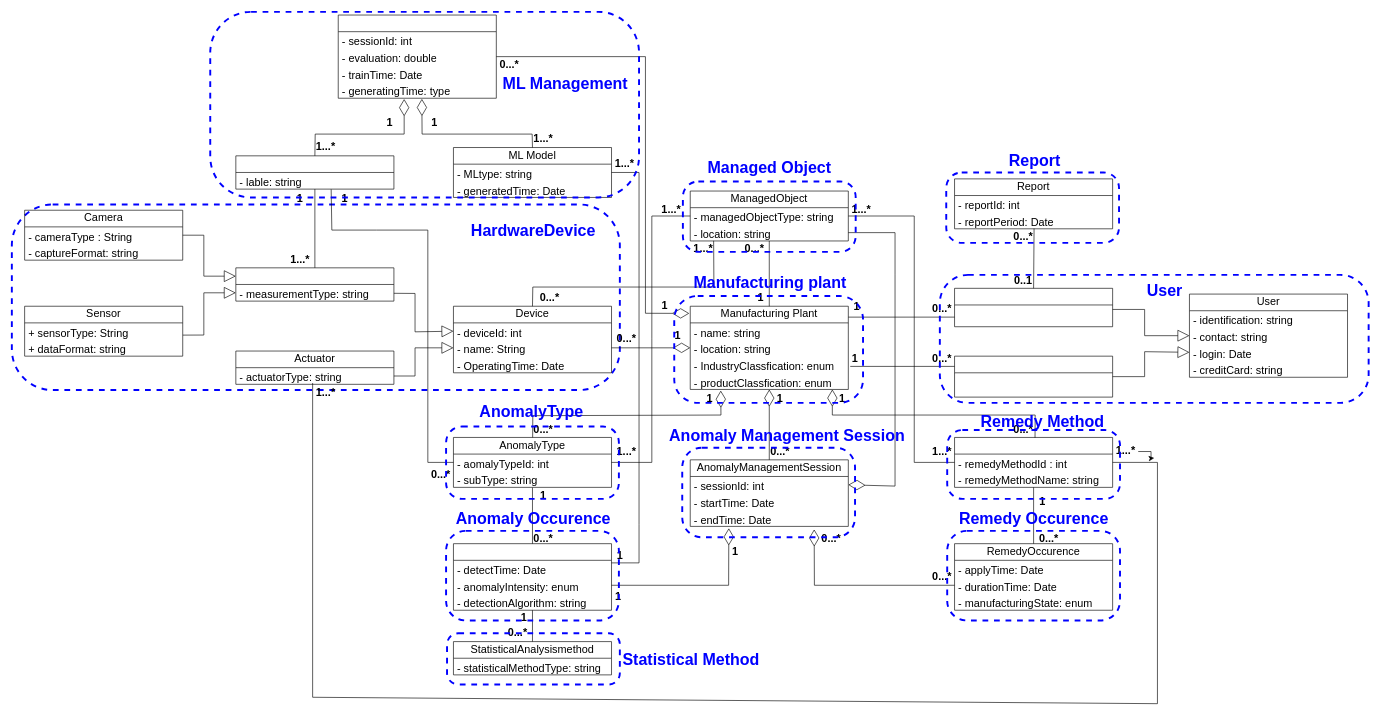
This 1380x716 diagram has some shape labels left out. The box of each missing label's shape, as (x1, y1, x2, y2) in pixels:
AnomalyOccurence: (453, 543, 612, 610)
Manager: (954, 288, 1113, 327)
MeasurementDevice: (235, 267, 394, 301)
MLManagementSession: (338, 14, 496, 98)
RemedyMehod: (954, 437, 1113, 487)
TraingingData: (235, 155, 394, 189)
Worker: (954, 356, 1113, 397)
